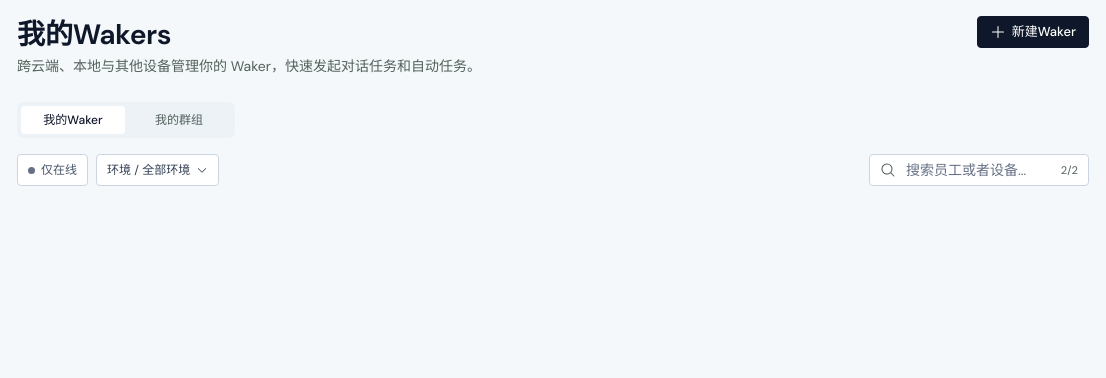
Test case: WakersView 管理视图 › filters with the 仅在线 toggle (all local Wakers are online)
The width and height of the screenshot is (1106, 378).
Click the button "仅在线".
click(52, 170)  # box [17, 154, 88, 186]
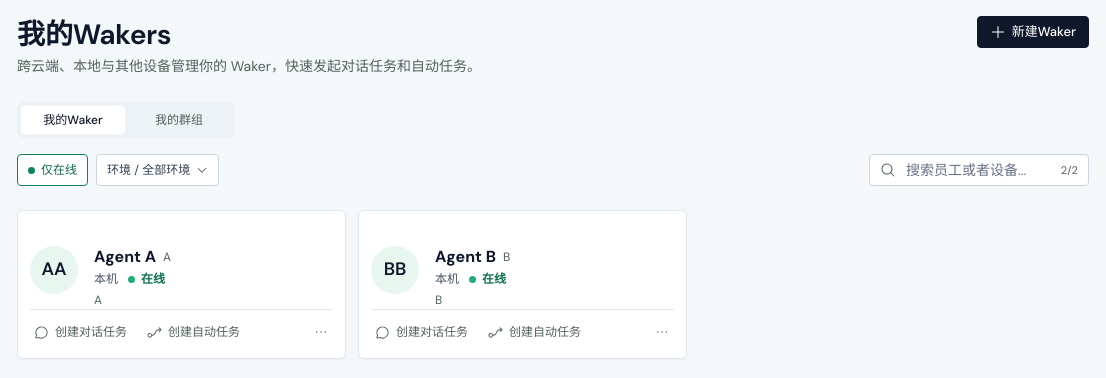
Now the heading "Agent AA" is shown, box [94, 246, 171, 266]
Now the heading "Agent BB" is shown, box [435, 246, 510, 266]
